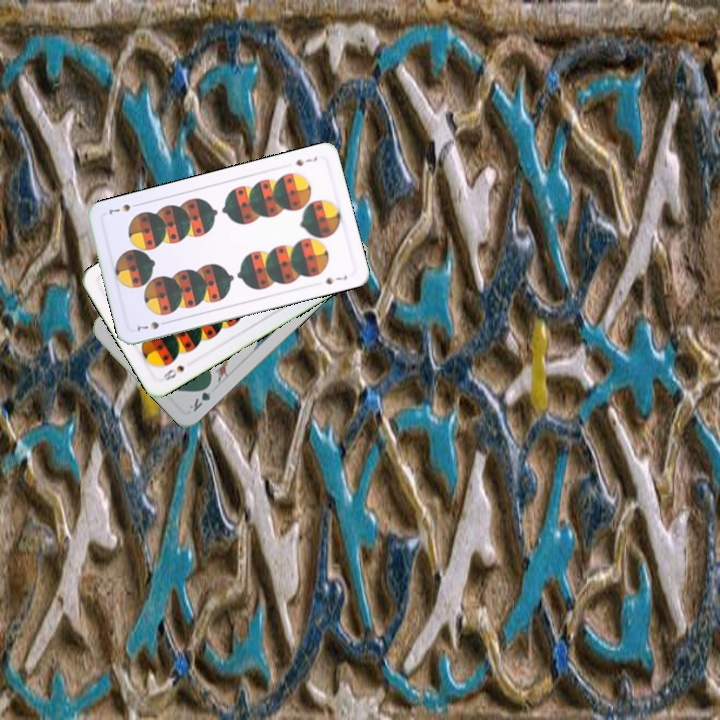GK: (185, 379, 214, 415)
S7: (133, 317, 171, 333), (292, 152, 320, 169)
S8: (158, 361, 187, 385)
